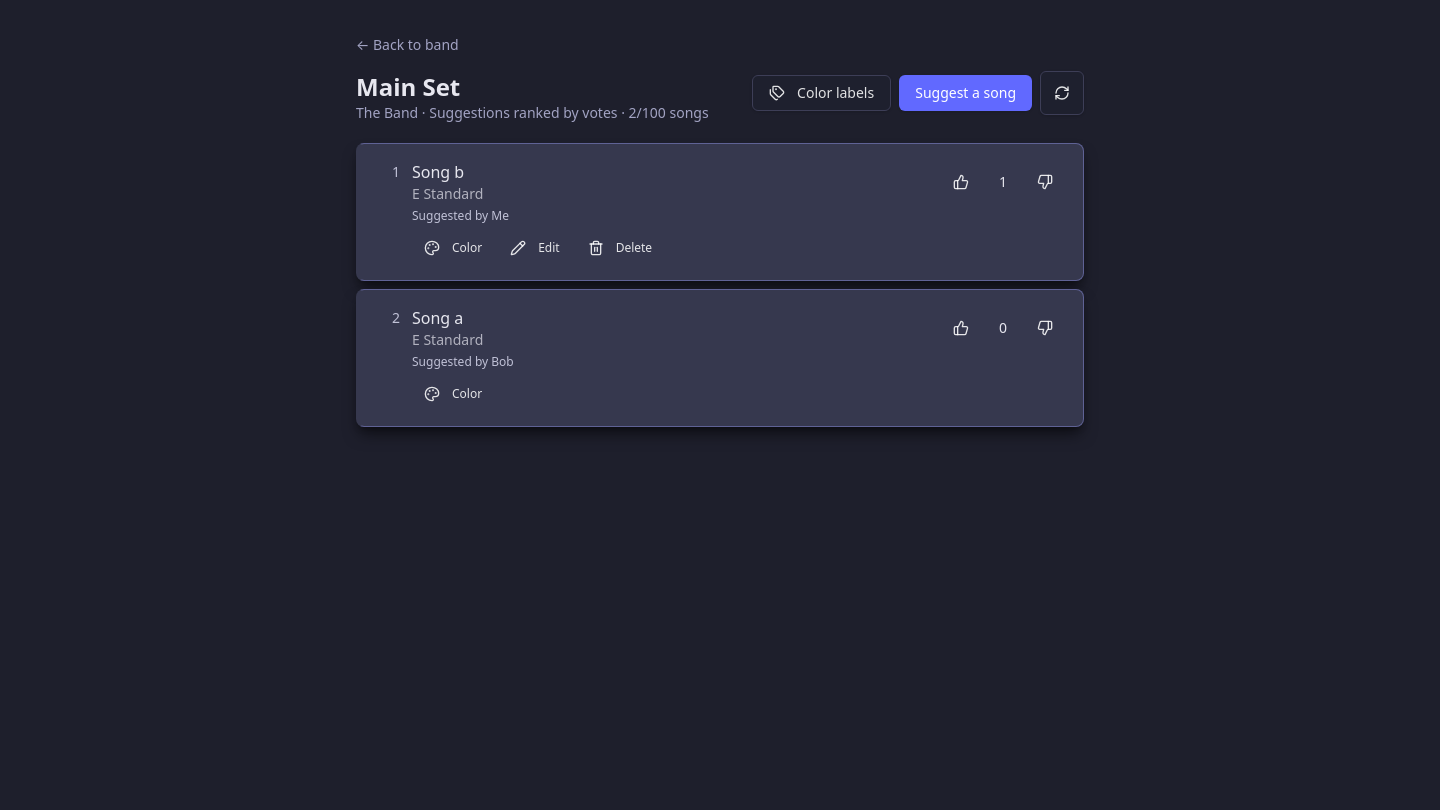
Test case: SetListPage › color labels › Color labels dialog › opens seeded with the band's labels
Check: the text "Song a" is shown, box [412,307,463,329]
What coordinates should you click on to do the following:
click the button "Color labels"
I would click on:
 (822, 93)
Its box is [752,75,891,111].
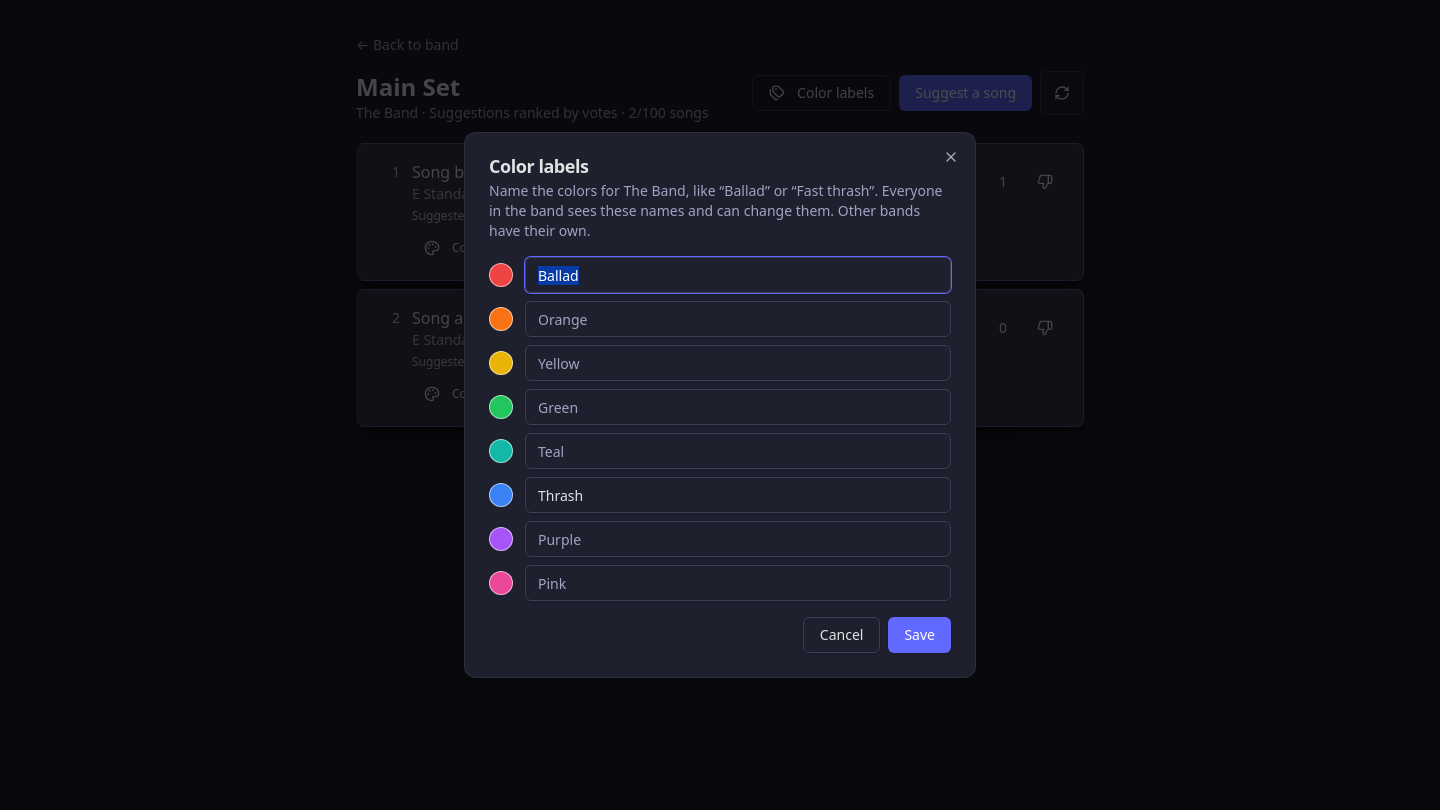
Check: the heading "Color labels" is shown, box [489,154,588,178]
